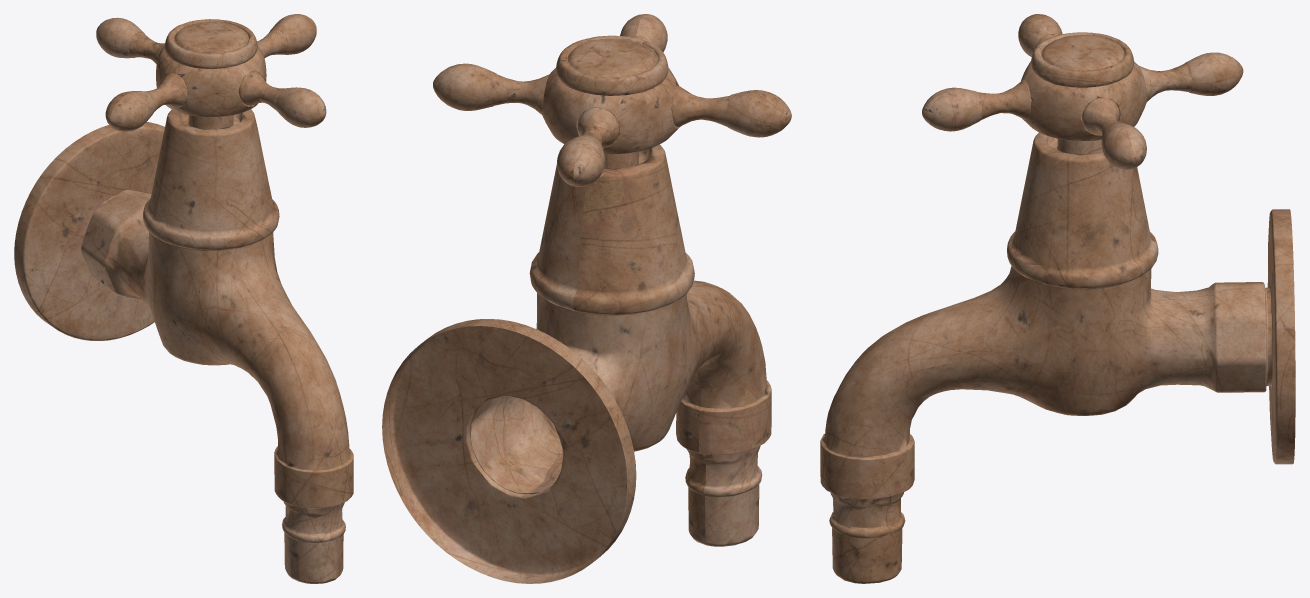
Rendered from antique_water_faucet-reduced.obj.
3 views of the same model, side by side, from view 1: azimuth 30°, elevation 25°; view 2: azimuth 150°, elevation 25°; view 3: azimuth 270°, elevation 25° (orthographic). The views are drawn at different scales.
Parts seen in each view (by area): view 1: obj1, obj2; view 2: obj1, obj2; view 3: obj1, obj2.
Part boxes in pixels (bbox=[...]): obj1: bbox=[14, 109, 353, 583]; obj2: bbox=[96, 14, 326, 131]; obj1: bbox=[382, 144, 771, 583]; obj2: bbox=[433, 14, 791, 186]; obj1: bbox=[820, 132, 1295, 583]; obj2: bbox=[922, 14, 1243, 169].
Bounding box in the file's own units: 0.2017 × 0.36 × 0.2981.
1 material, 1 textured.
